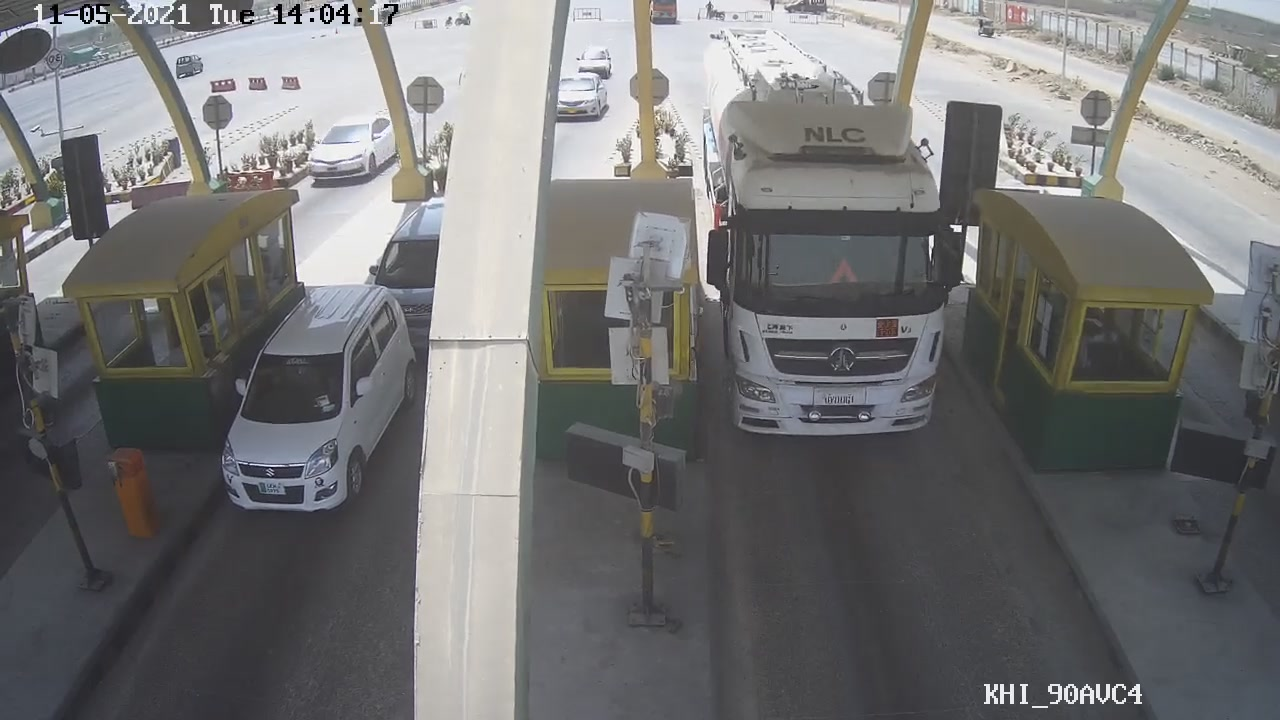F6: (703, 57, 962, 448)
